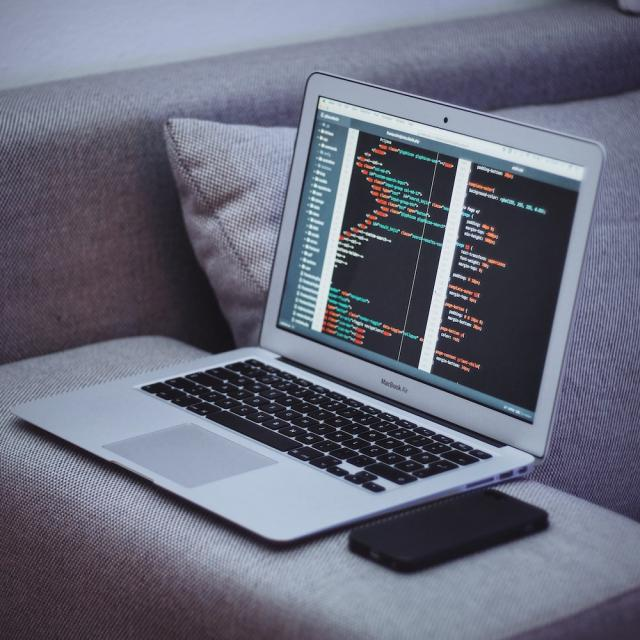keyboard: (10, 353, 523, 540)
